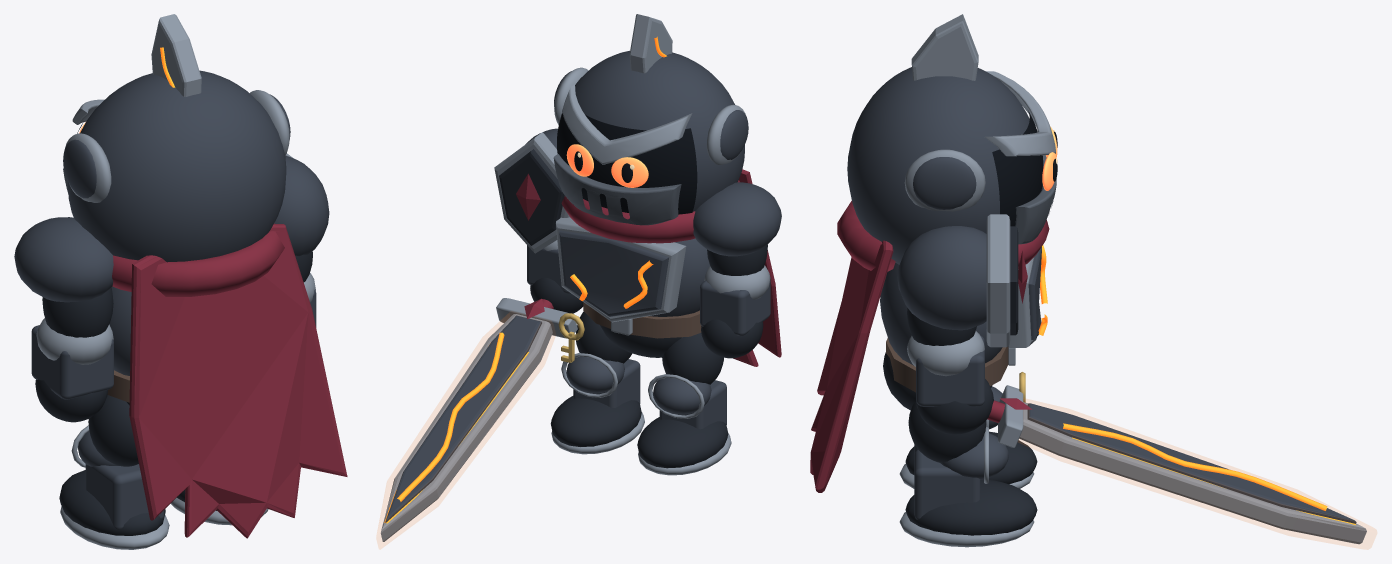
The model's file is ember-guardian.glb.
3 views of the same model, side by side, from view 1: azimuth 30°, elevation 25°; view 2: azimuth 150°, elevation 25°; view 3: azimuth 270°, elevation 25° (orthographic). The views are drawn at different scales.
Parts seen in each view (by area): view 1: armor-batch (×14), leaf-crest; view 2: armor-batch (×29), blade-glow, leaf-crest, ember-eye (×2); view 3: armor-batch (×23), leaf-crest, blade-glow.
Part boxes in pixels (x1=…): armor-batch (×14): x1=14, y1=70, x2=347, y2=549; leaf-crest: x1=151, y1=14, x2=201, y2=96; armor-batch (×29): x1=380, y1=50, x2=781, y2=541; blade-glow: x1=377, y1=314, x2=554, y2=548; leaf-crest: x1=629, y1=14, x2=672, y2=73; ember-eye (×2): x1=566, y1=144, x2=648, y2=187; armor-batch (×23): x1=810, y1=67, x2=1366, y2=547; leaf-crest: x1=911, y1=14, x2=978, y2=80; blade-glow: x1=1018, y1=398, x2=1376, y2=549.
Size of the model in its own units: 1.13 by 1.82 by 1.89.
